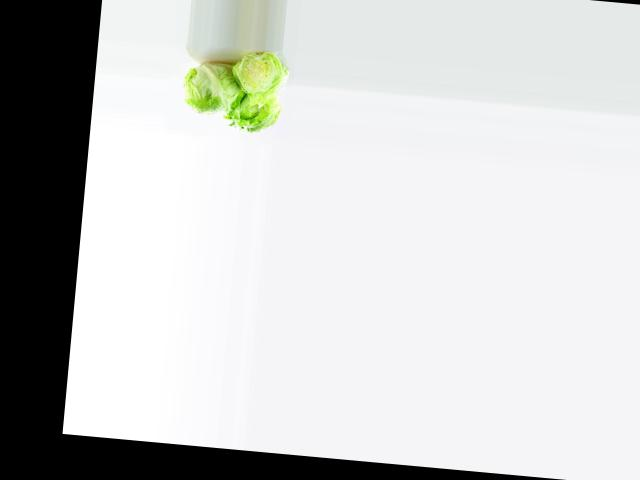lettuce: (219, 85, 284, 139)
